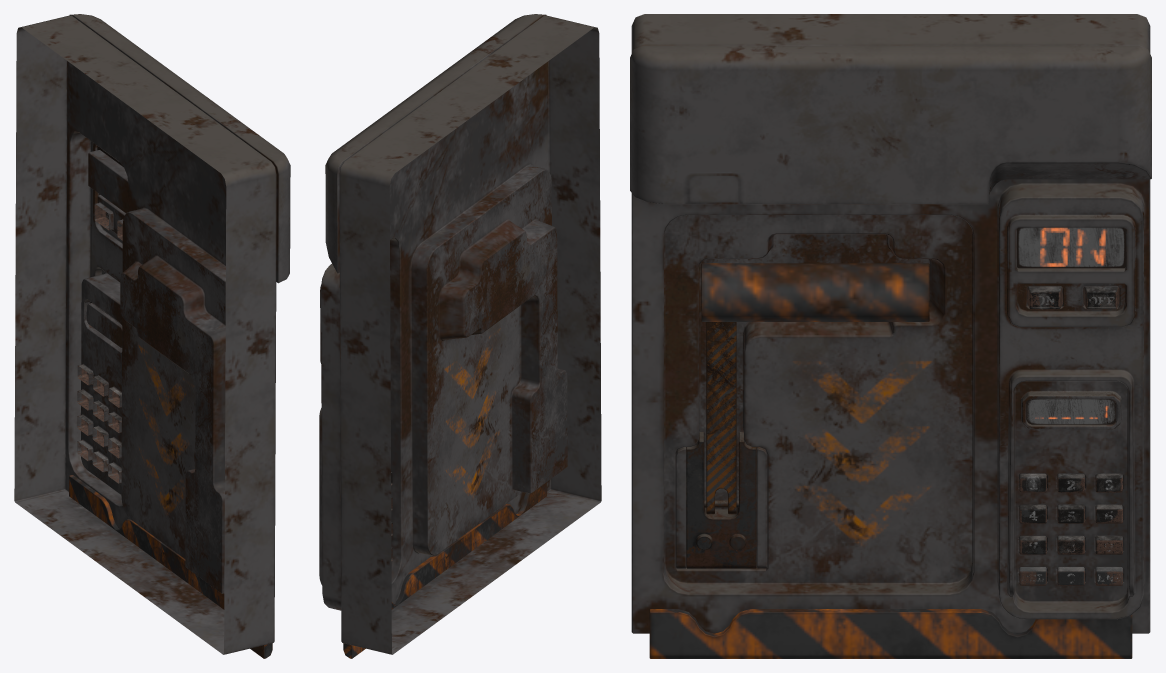
The model's file is door_lock.glb.
3 renders of one model, left to right at view 1: azimuth 30°, elevation 25°; view 2: azimuth 150°, elevation 25°; view 3: azimuth 270°, elevation 25°, orthographic. The views are drawn at different scales.
Parts seen in each view (by area): view 1: wall_low, wall.001_low, wall.006_low, Cutter.017; view 2: wall_low, wall.001_low, wall.006_low, wall.003_low; view 3: wall_low, wall.001_low, wall.006_low, wall.004_low, wall.002_low, Cutter.017, Box.005, wall.003_low, Cutter.016, Cutter.002.
Part boxes in pixels (x1,y1,x2,y2): wall_low: (14, 15, 276, 654); wall.001_low: (69, 14, 290, 283); wall.006_low: (69, 475, 272, 658); Cutter.017: (77, 365, 121, 483); wall_low: (319, 15, 601, 654); wall.001_low: (325, 14, 546, 273); wall.006_low: (343, 482, 546, 658); wall.003_low: (512, 392, 525, 492); wall_low: (631, 14, 1150, 633); wall.001_low: (630, 45, 1151, 204); wall.006_low: (649, 609, 1132, 658); wall.004_low: (701, 263, 929, 514); wall.002_low: (686, 432, 756, 568); Cutter.017: (1019, 473, 1122, 585); Box.005: (1017, 227, 1125, 268); wall.003_low: (675, 447, 767, 568); Cutter.016: (1026, 399, 1116, 424); Cutter.002: (1027, 286, 1119, 309).
Size of the model in its own units: 0.3769 by 2.23 by 1.71.
Materials: 1 (1 with a texture image).
